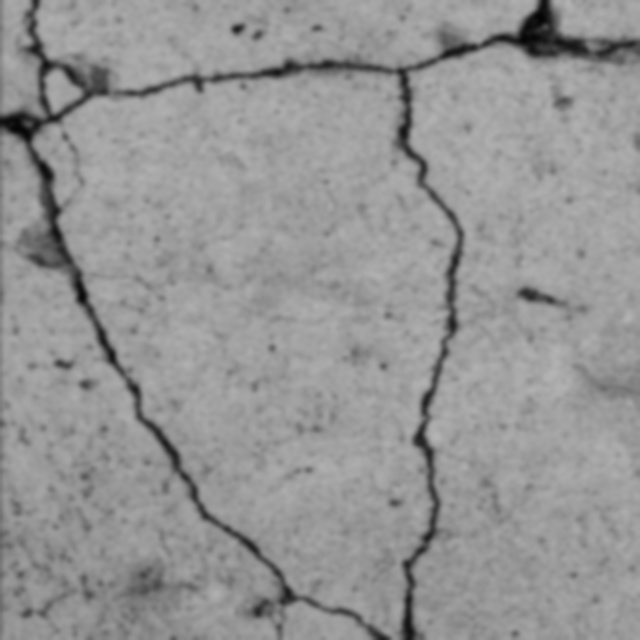SurfaceCrack: (345, 0, 490, 640)
